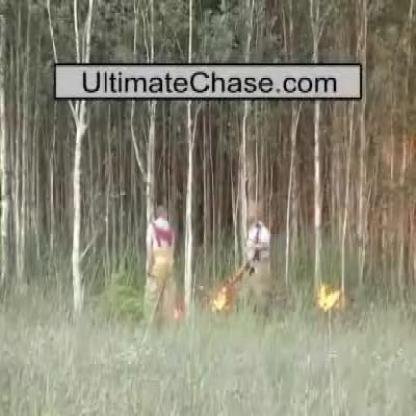foggia-v2-map80-epoch100 - v1 4323: (318, 280, 339, 312), (212, 284, 228, 314)
